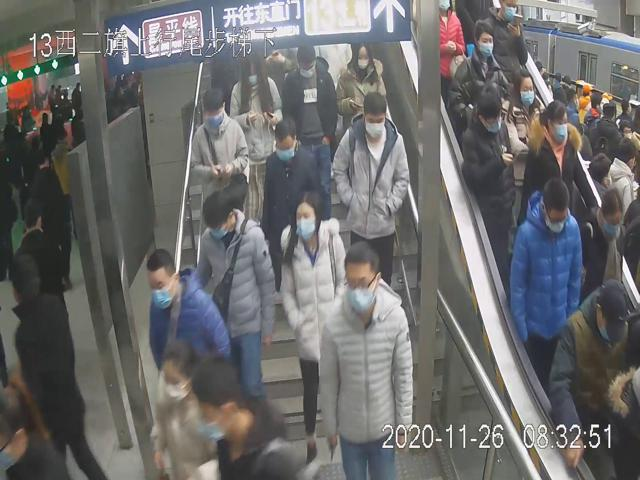person: (316, 241, 416, 480), (277, 190, 351, 472), (193, 190, 274, 420), (331, 92, 409, 285), (506, 176, 582, 372), (145, 248, 231, 391), (263, 116, 323, 261), (228, 56, 282, 216), (516, 99, 582, 226), (187, 86, 251, 206), (446, 22, 505, 142), (503, 66, 548, 204), (333, 36, 389, 136), (280, 43, 335, 144)
